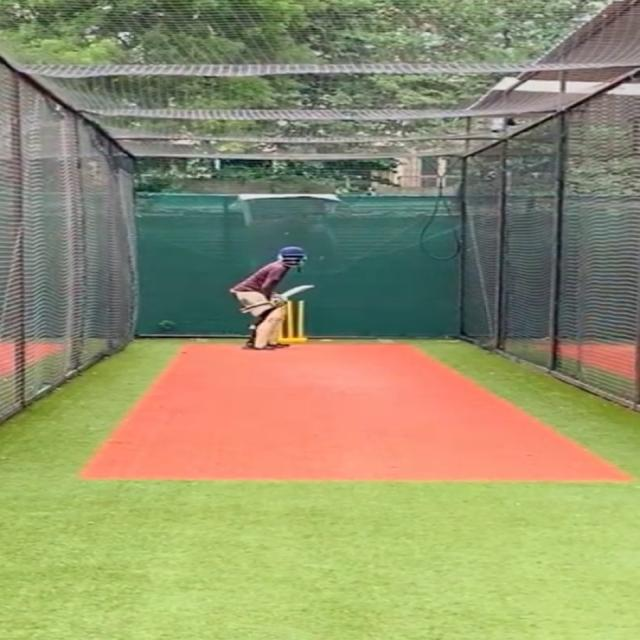stump: (286, 300, 309, 343)
